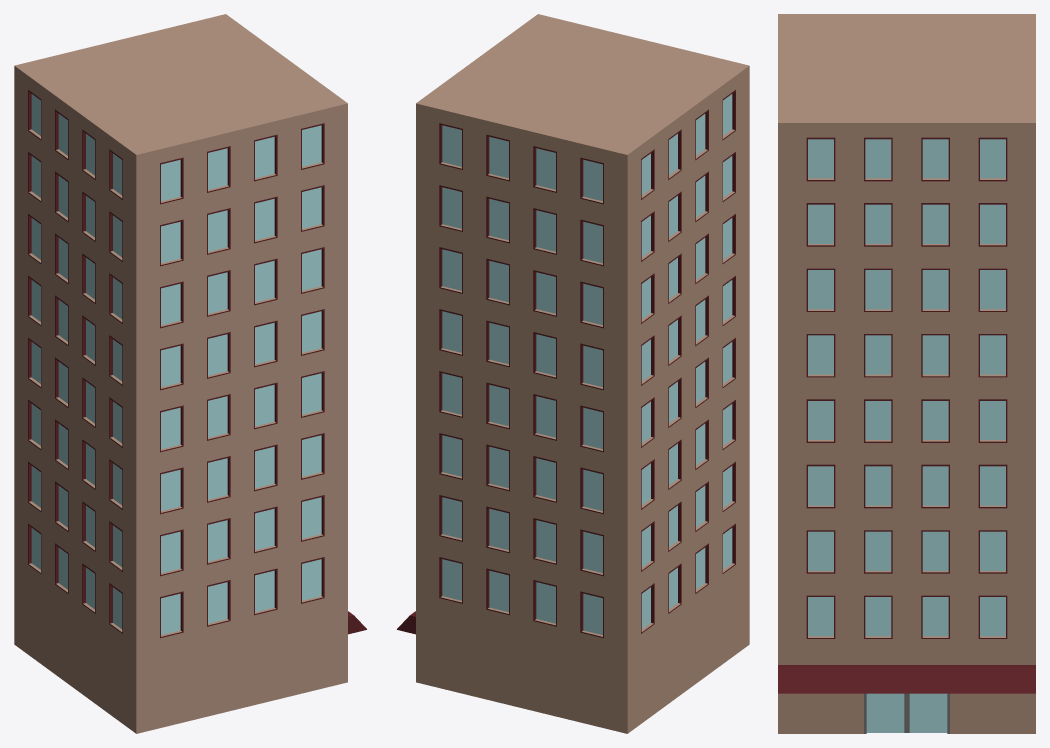
The picture shows the model from 3 angles, left to right: view 1: azimuth 30°, elevation 25°; view 2: azimuth 150°, elevation 25°; view 3: azimuth 270°, elevation 25°; orthographic projection. The views are drawn at different scales.
Parts seen in each view (by area): view 1: Cube.020; view 2: Cube.020; view 3: Cube.020.
Boxes of the visible parts, x1,y1,x2,y2 form: Cube.020: (14, 14, 366, 733); Cube.020: (397, 14, 749, 733); Cube.020: (778, 14, 1035, 733).
Size of the model in its own units: 2185 by 5229 by 2000.
